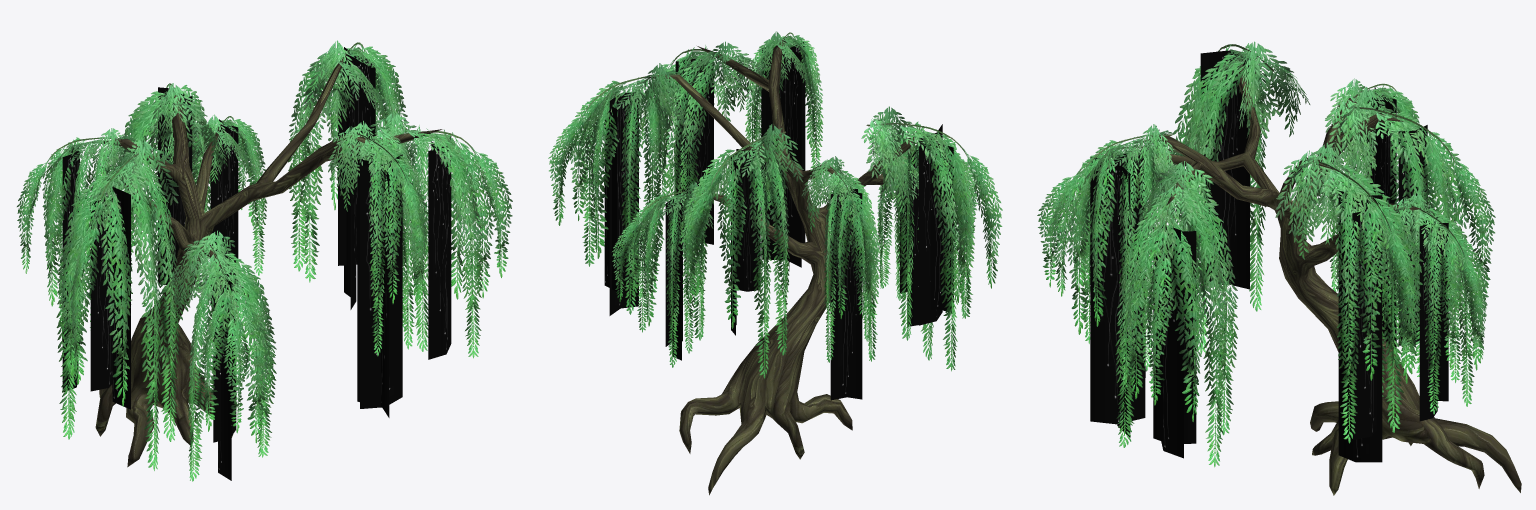
3 renders of one model, left to right at view 1: azimuth 30°, elevation 25°; view 2: azimuth 150°, elevation 25°; view 3: azimuth 270°, elevation 25°, orthographic. The views are drawn at different scales.
Size of the model in its own units: 31.57 by 27.64 by 28.52.
Materials: 3 (3 with a texture image).
